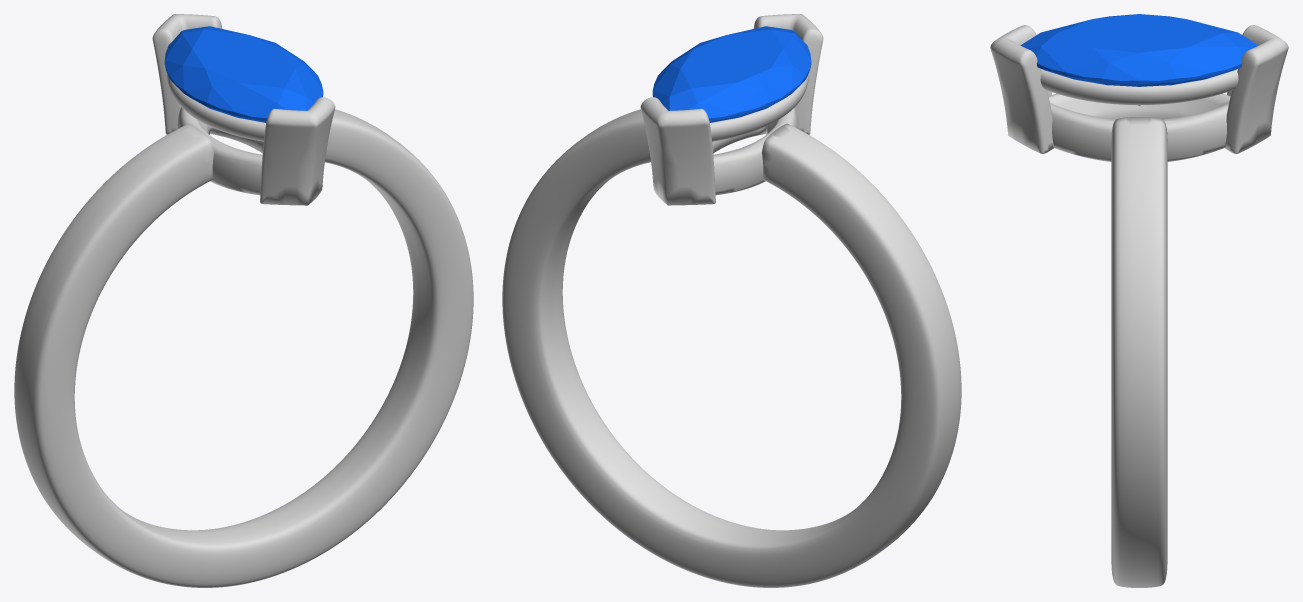
File: bluesapphire-marquise-platinum-protectededges2prongs-straightband-nosidestones.glb
3 renders of one model, left to right at view 1: azimuth 30°, elevation 25°; view 2: azimuth 150°, elevation 25°; view 3: azimuth 270°, elevation 25°, orthographic. The views are drawn at different scales.
Visible parts, largest first — view 1: metal, stone; view 2: metal, stone; view 3: metal, stone.
Boxes of the visible parts, x1,y1,x2,y2 form: metal: (14,14,473,587); stone: (164,26,323,122); metal: (502,14,961,587); stone: (652,26,811,122); metal: (990,25,1288,587); stone: (1020,14,1258,105).
Bounding box in the file's own units: 20.49 × 22.94 × 11.69.
